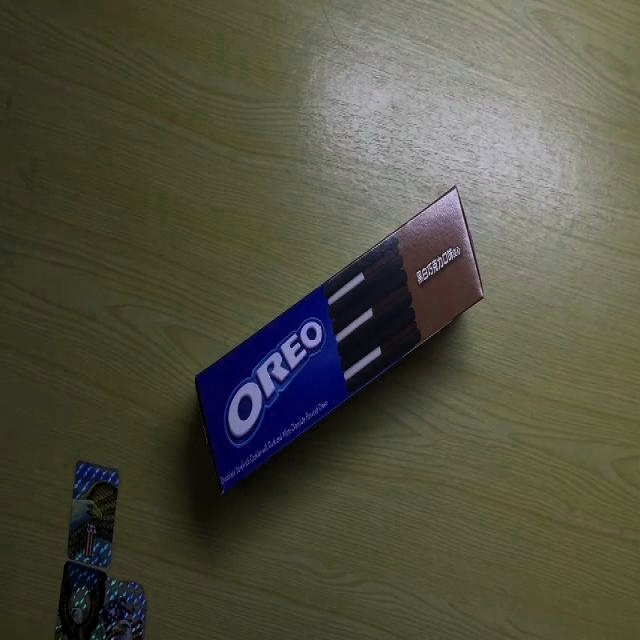Oreo: (195, 184, 484, 502)
